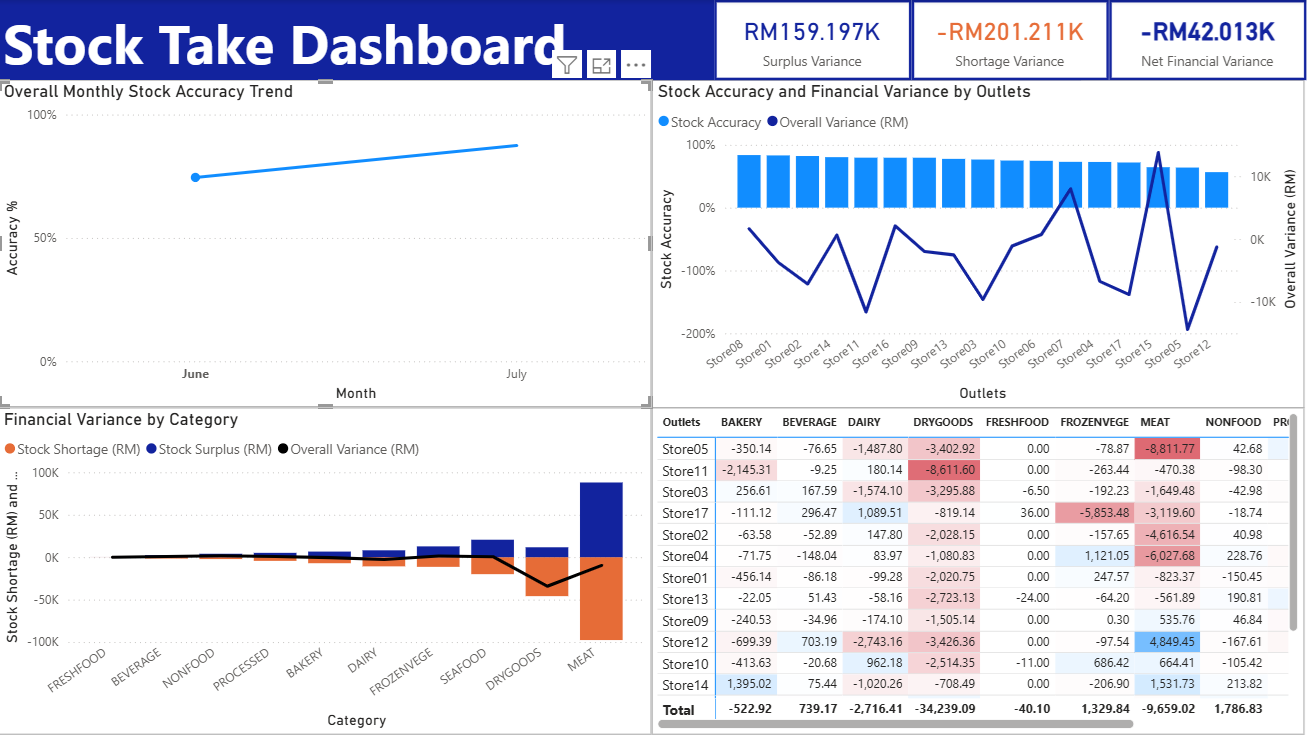

The dashboard page shown, as its layout file describes it:
{"tool":"powerbi","page":{"name":"Dashboard","canvas":[1280,720],"ordinal":0},"visuals":[{"type":"lineChart","title":"Overall Monthly Stock Accuracy Trend","fields":{"Y":["Combined.Accuracy %"],"Category":["Combined.Month.Variation.Date Hierarchy.Month"]},"box":[0,78.3,639.5,320.4],"z":0},{"type":"lineStackedColumnComboChart","title":"Stock Accuracy and Financial Variance by Outlets","fields":{"Category":["Combined.Outlets"],"Y":["Combined.Accuracy %"],"Y2":["Sum(Combined.FINAL Variance (RM))"]},"box":[640.1,77.8,638.8,320.8],"z":1000},{"type":"lineStackedColumnComboChart","title":"Financial Variance by Category","fields":{"Category":["Combined.Category"],"Y":["Sum(Combined.Stock Shortage RM)","Sum(Combined.Stock Surplus RM)"],"Y2":["Sum(Combined.FINAL Variance (RM))"]},"box":[0,398.6,639.5,320.4],"z":2000},{"type":"textbox","box":[0,0,1059,78.3],"z":3000},{"type":"card","fields":{"Values":["Sum(Combined.FINAL Variance (RM))"]},"box":[1087.3,0,193,78.5],"z":4000},{"type":"card","fields":{"Values":["Sum(Combined.Stock Shortage RM)"]},"box":[894.3,0,193,78.5],"z":6000},{"type":"card","fields":{"Values":["Sum(Combined.Stock Surplus RM)"]},"box":[701.2,0,193,78.5],"z":7000},{"type":"pivotTable","fields":{"Rows":["Combined.Outlets"],"Columns":["Combined.Category"],"Values":["Sum(Combined.FINAL Variance (RM))"]},"box":[639.5,398.6,638.3,320.4],"z":8000}]}

Visuals, with their boxes in screenshot pixels (x1, y1, x2, y2), scaled from the page's 1280x720 canvas onto the 1307x736 screenshot:
"Overall Monthly Stock Accuracy Trend" lineChart: [0, 80, 653, 408]
"Stock Accuracy and Financial Variance by Outlets" lineStackedColumnComboChart: [654, 80, 1306, 407]
"Financial Variance by Category" lineStackedColumnComboChart: [0, 407, 653, 735]
textbox: [0, 0, 1081, 80]
card - Sum(Combined.FINAL Variance (RM)): [1110, 0, 1306, 80]
card - Sum(Combined.Stock Shortage RM): [913, 0, 1110, 80]
card - Sum(Combined.Stock Surplus RM): [716, 0, 913, 80]
pivotTable - Combined.Outlets x Combined.Category: [653, 407, 1305, 735]
